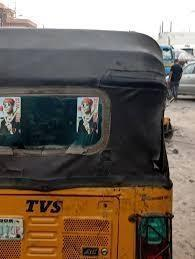keke: (1, 25, 175, 259)
